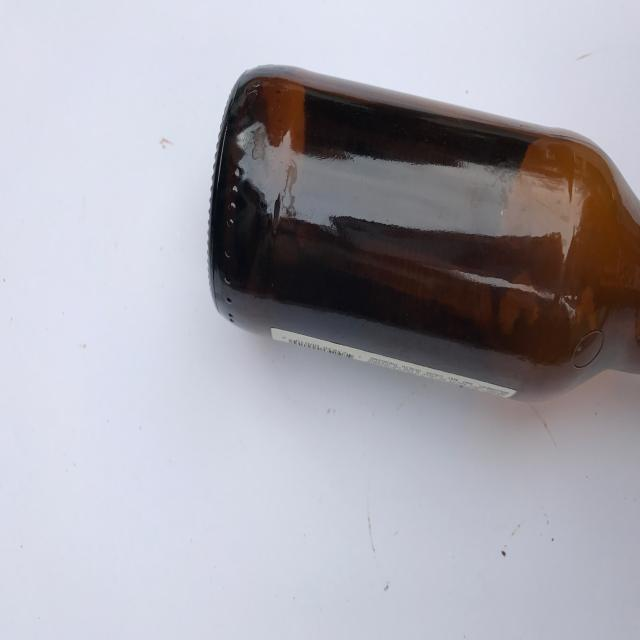glass: (206, 62, 640, 403)
